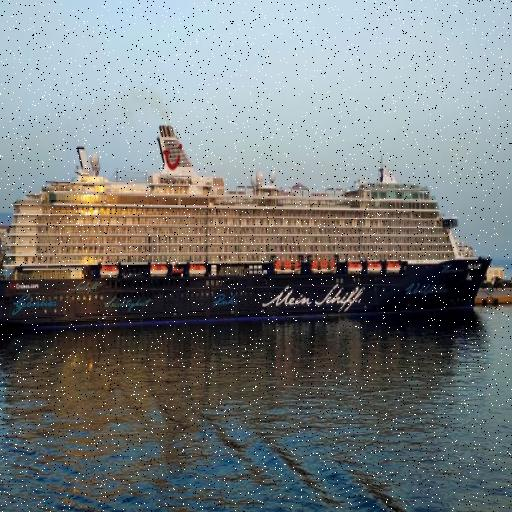cruises: (1, 124, 494, 328)
